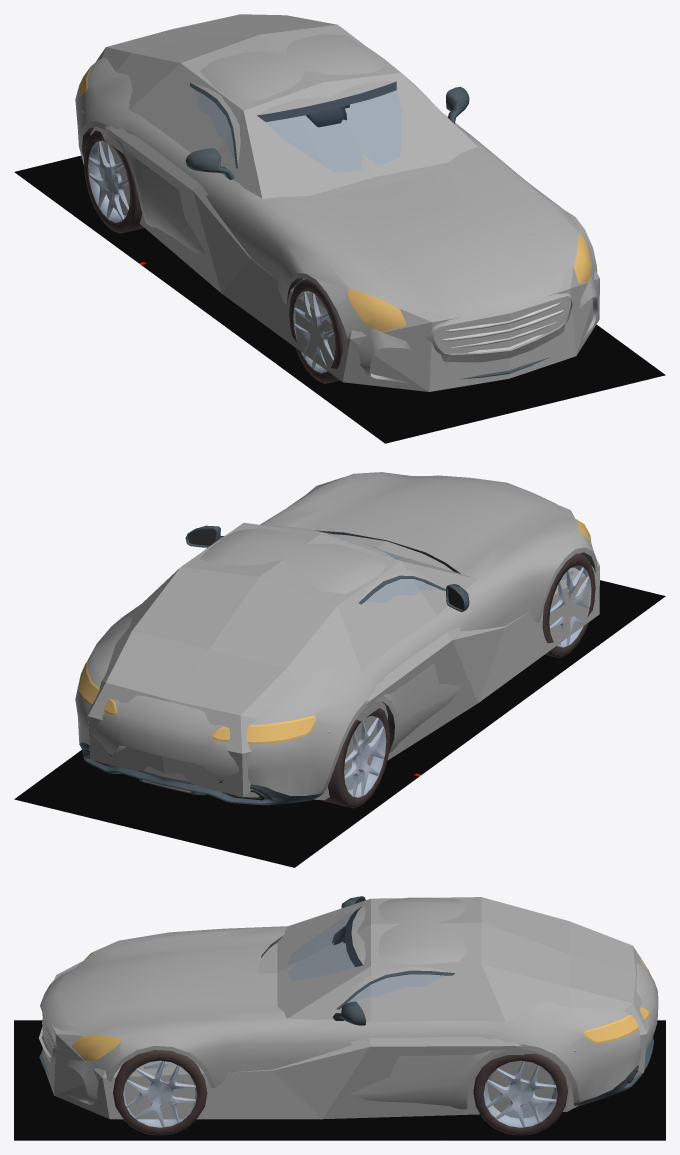
File: Megan.fbx
The picture shows the model from 3 angles, top to bottom: view 1: azimuth 30°, elevation 25°; view 2: azimuth 150°, elevation 25°; view 3: azimuth 270°, elevation 25°; orthographic projection. The views are drawn at different scales.
Visible parts, largest first — view 1: Megan_body, Megan_body_col, CarShadow, Megan_Wheel_RR, Megan_Wheel_FR; view 2: Megan_body, Megan_body_col, CarShadow, Megan_Wheel_RR, Megan_Wheel_FR; view 3: Megan_body, Megan_body_col, CarShadow, Megan_Wheel_RL, Megan_Wheel_FL.
Boxes of the visible parts, <box> form: Megan_body: <box>75,34,597,383</box>; Megan_body_col: <box>82,14,599,391</box>; CarShadow: <box>14,155,665,443</box>; Megan_Wheel_RR: <box>84,130,144,233</box>; Megan_Wheel_FR: <box>289,279,342,383</box>; Megan_body: <box>75,472,597,805</box>; Megan_body_col: <box>87,476,599,800</box>; CarShadow: <box>14,580,665,867</box>; Megan_Wheel_RR: <box>319,708,390,808</box>; Megan_Wheel_FR: <box>542,553,595,657</box>; Megan_body: <box>39,896,658,1109</box>; Megan_body_col: <box>42,897,649,1119</box>; CarShadow: <box>14,1020,665,1140</box>; Megan_Wheel_RL: <box>473,1053,567,1135</box>; Megan_Wheel_FL: <box>113,1050,207,1135</box>.
Bounding box in the file's own units: 2.08 × 1.28 × 4.77.
